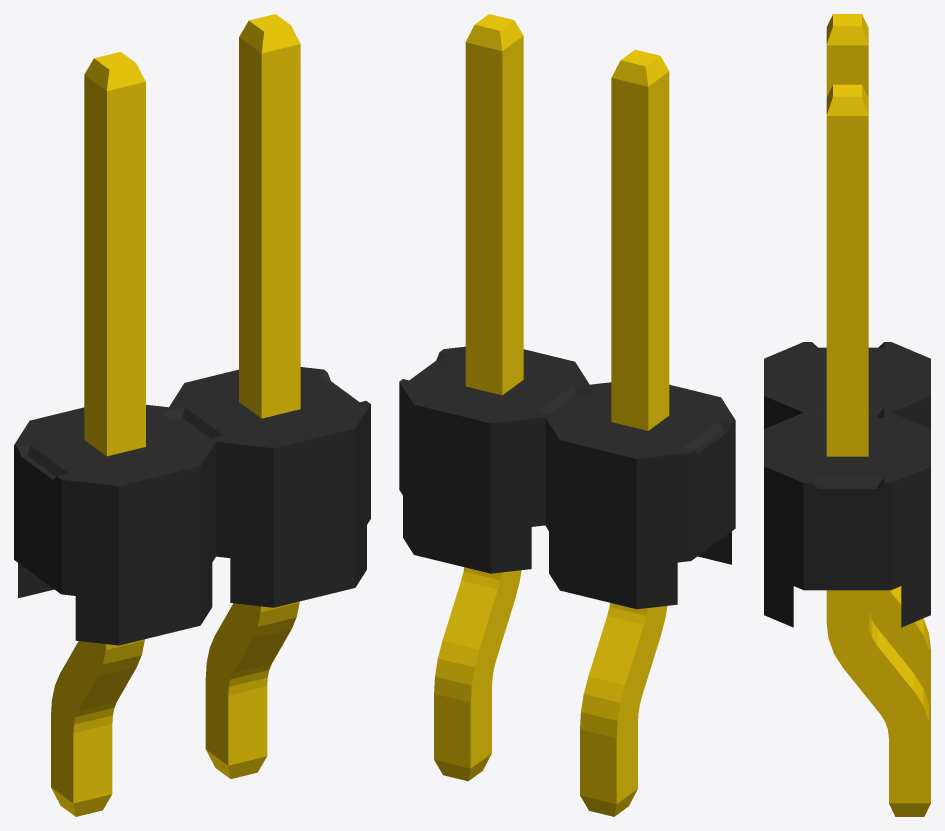
File: DS1025 (PLS-02T CONNFLY).obj
The picture shows the model from 3 angles, left to right: view 1: azimuth 30°, elevation 25°; view 2: azimuth 150°, elevation 25°; view 3: azimuth 270°, elevation 25°; orthographic projection. The views are drawn at different scales.
Parts seen in each view (by area): view 1: DS1025_(PLS-02T_CONNFLY); view 2: DS1025_(PLS-02T_CONNFLY); view 3: DS1025_(PLS-02T_CONNFLY).
Boxes of the visible parts, box(x1,y1,x2,y2) form: DS1025_(PLS-02T_CONNFLY): box(14, 14, 370, 816); DS1025_(PLS-02T_CONNFLY): box(399, 14, 735, 816); DS1025_(PLS-02T_CONNFLY): box(764, 14, 930, 816).
Bounding box in the file's own units: 0.0113 × 0.0269 × 0.00564.
